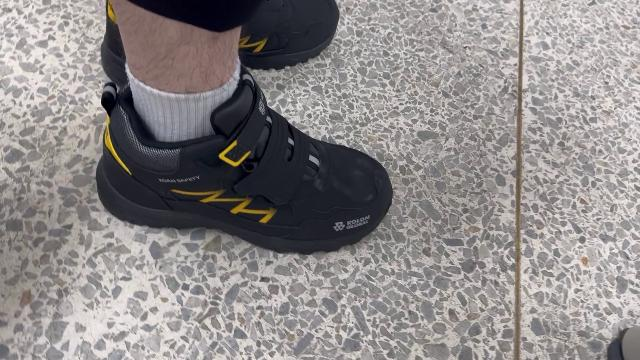shoe_worn: (88, 81, 400, 250), (84, 0, 342, 66)
